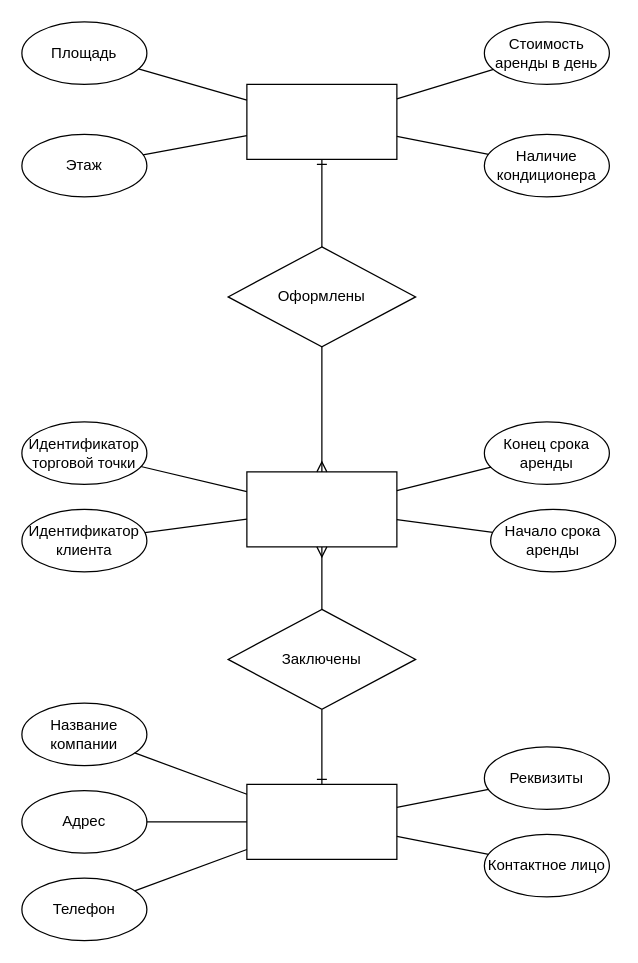
Image size: 638x963. Some labels were removed from this diagram. The shapes that lost their labels are listed below. From the top down, each one's centre as x and y in pixels, then its label:
(321,121): Торговые точки
(321,509): Договоры
(321,821): Клиенты
